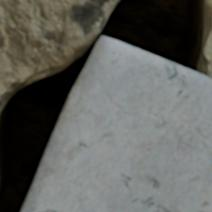brick: (22, 37, 211, 211)
crack: (0, 0, 210, 211)
